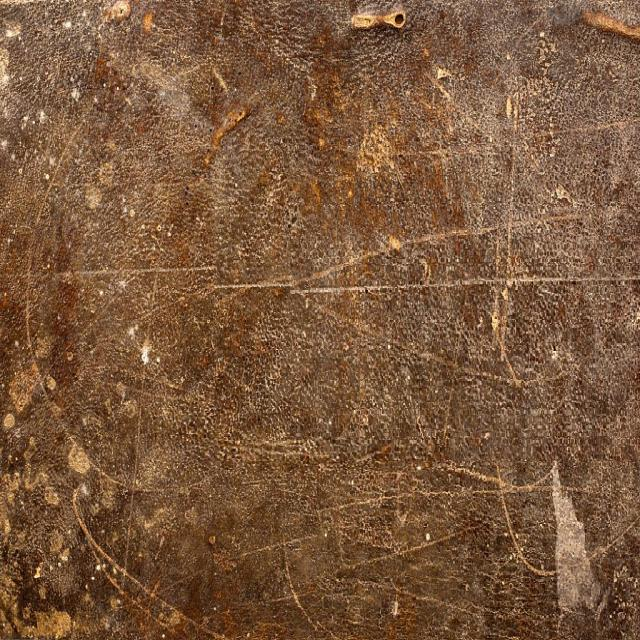Rotten surface: (337, 12, 578, 192), (26, 302, 124, 590), (520, 418, 621, 622)
